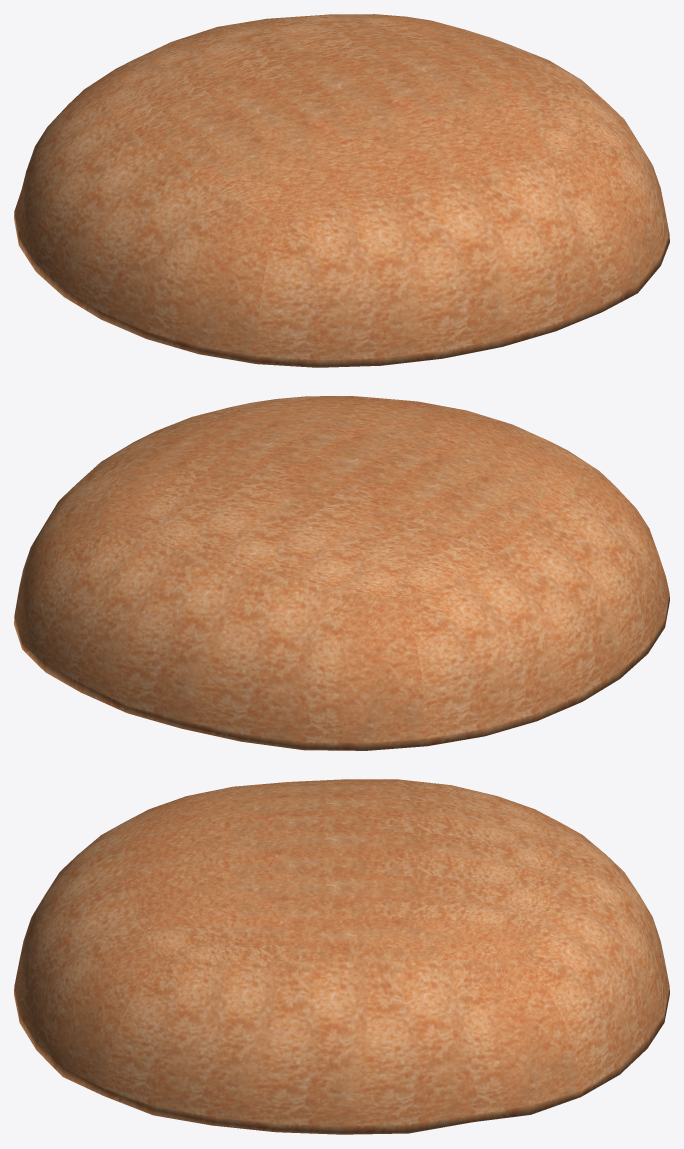
File: pan top.fbx
The picture shows the model from 3 angles, top to bottom: view 1: azimuth 30°, elevation 25°; view 2: azimuth 150°, elevation 25°; view 3: azimuth 270°, elevation 25°; orthographic projection. The views are drawn at different scales.
Visible parts, largest first — view 1: pantop; view 2: pantop; view 3: pantop.
Boxes of the visible parts, x1=… form: pantop: x1=14, y1=14, x2=669, y2=367; pantop: x1=14, y1=396, x2=669, y2=750; pantop: x1=14, y1=779, x2=669, y2=1134.
Size of the model in its own units: 2.56 by 0.6723 by 2.56.
